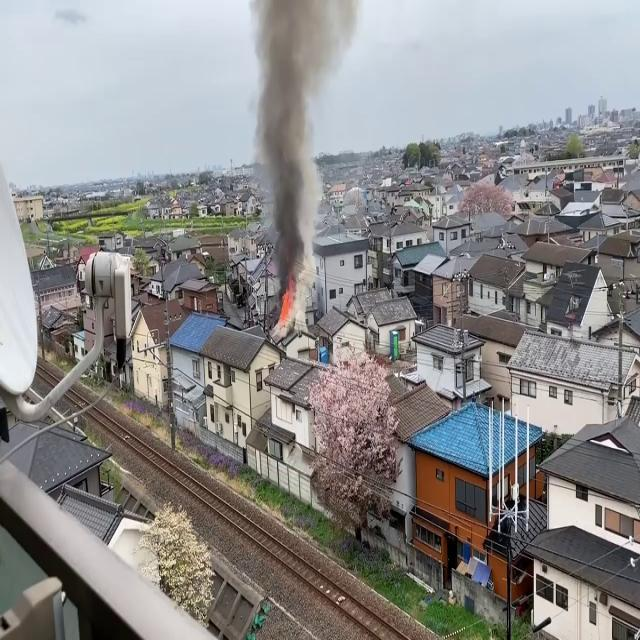Fire: (276, 280, 296, 334)
Smoke: (247, 1, 336, 294)
